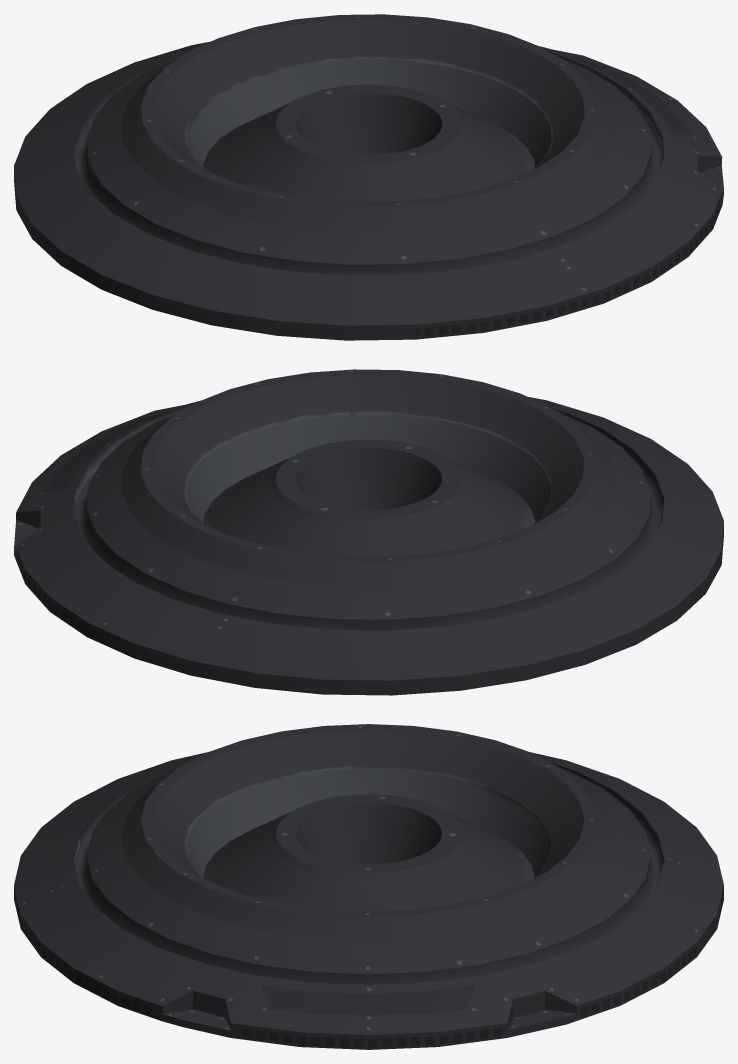
File: Pipe.glb
3 views of the same model, one above another, from view 1: azimuth 30°, elevation 25°; view 2: azimuth 150°, elevation 25°; view 3: azimuth 270°, elevation 25° (orthographic).
Visible parts, largest first — view 1: pipe_low; view 2: pipe_low; view 3: pipe_low.
Part boxes in pixels (box(x1,y1,x2,y2)): pipe_low: box(14, 14, 723, 340); pipe_low: box(14, 369, 723, 695); pipe_low: box(14, 724, 723, 1049).
Size of the model in its own units: 0.7561 by 0.0934 by 0.7561.
1 material, 1 textured.
